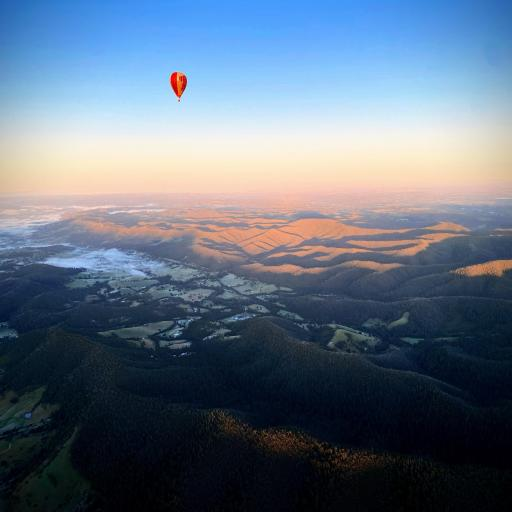hot air ballon: (170, 72, 187, 102)
